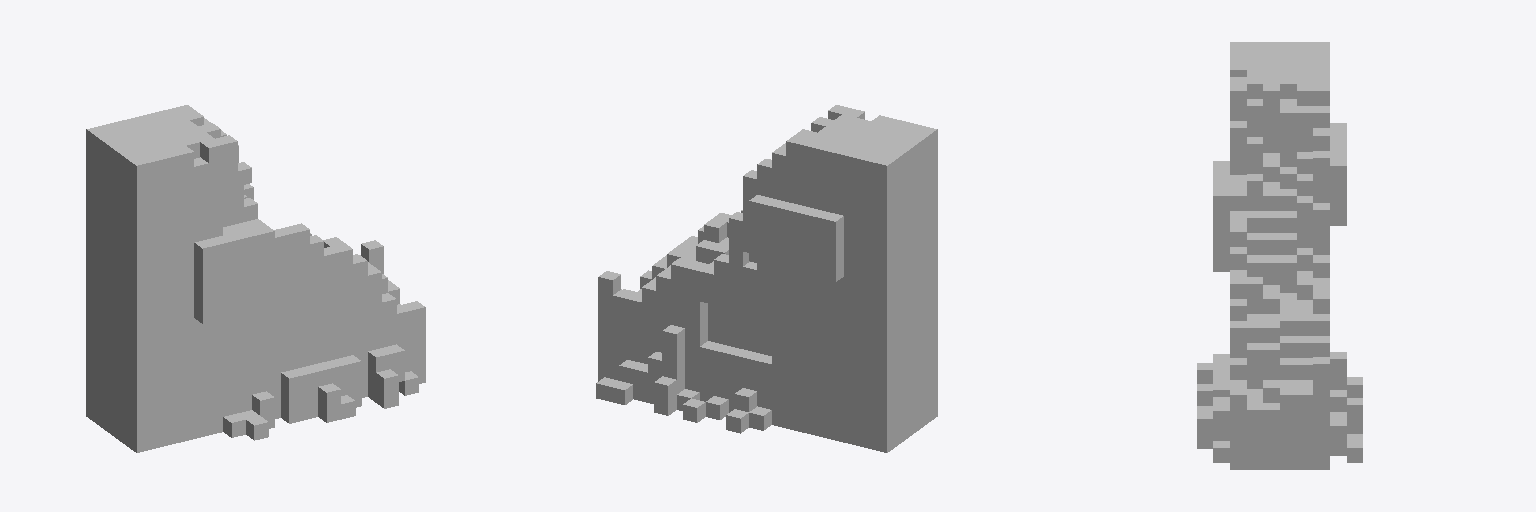
The model's file is Stone Fence Damaged.obj.
3 views of the same model, side by side, from view 1: azimuth 30°, elevation 25°; view 2: azimuth 150°, elevation 25°; view 3: azimuth 270°, elevation 25° (orthographic).
Visible parts, largest first — view 1: object 1; view 2: object 1; view 3: object 1.
Boxes of the visible parts, x1=… form: object 1: x1=86, y1=105, x2=425, y2=452; object 1: x1=596, y1=105, x2=937, y2=452; object 1: x1=1197, y1=42, x2=1362, y2=469.
Bounding box in the file's own units: 2 × 1.9 × 1.